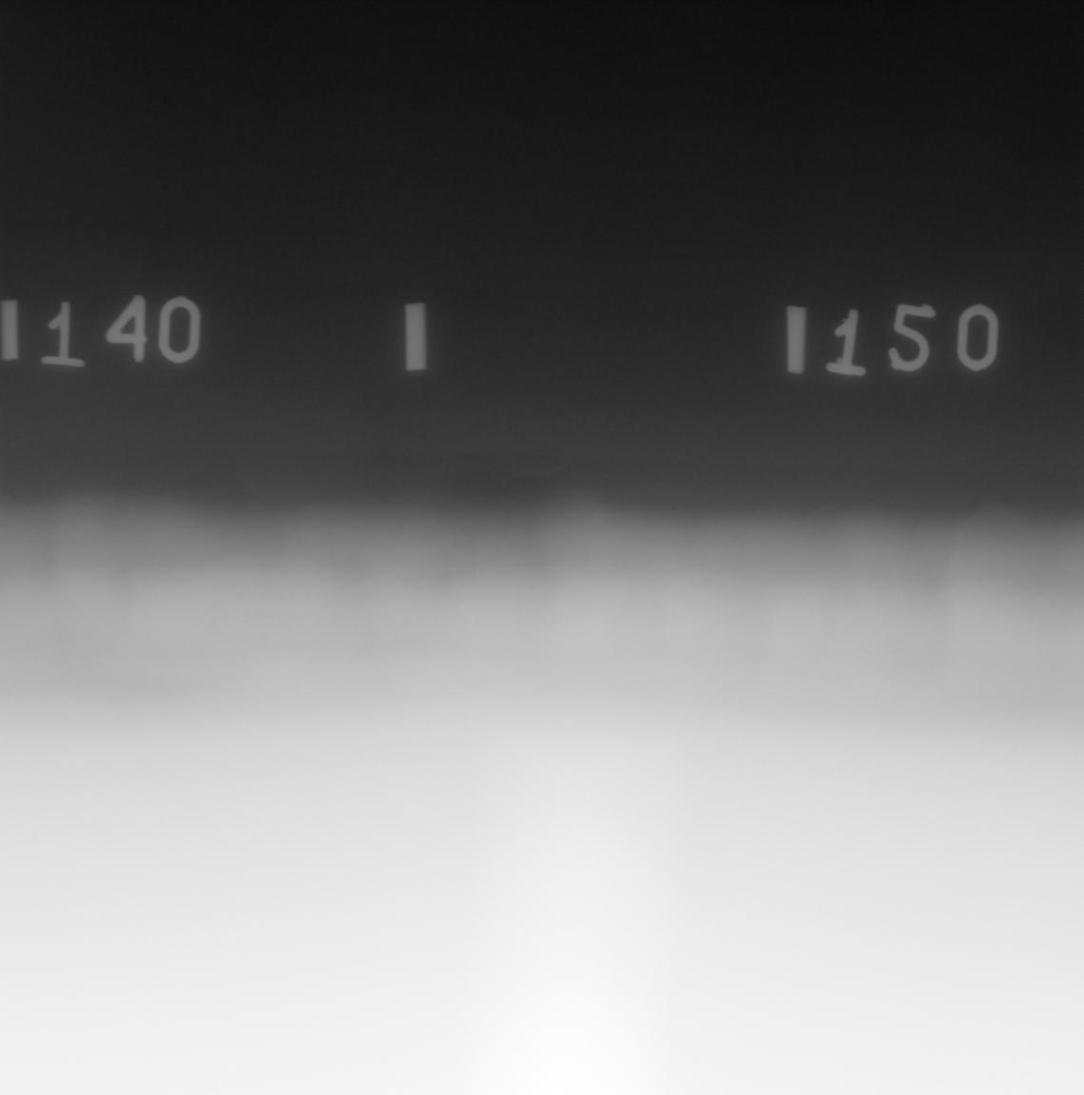Incomplete Root Penetration: (253, 614, 343, 617)
